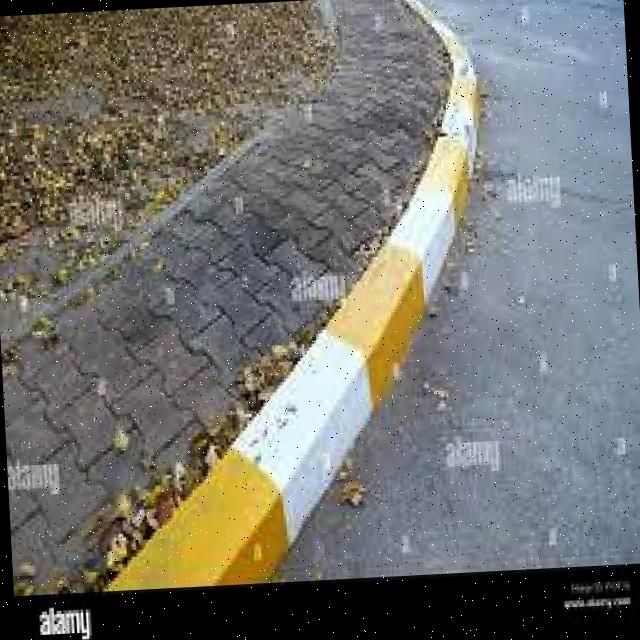curb: (113, 425, 395, 589), (270, 247, 495, 422), (376, 115, 506, 262), (392, 1, 496, 127)
